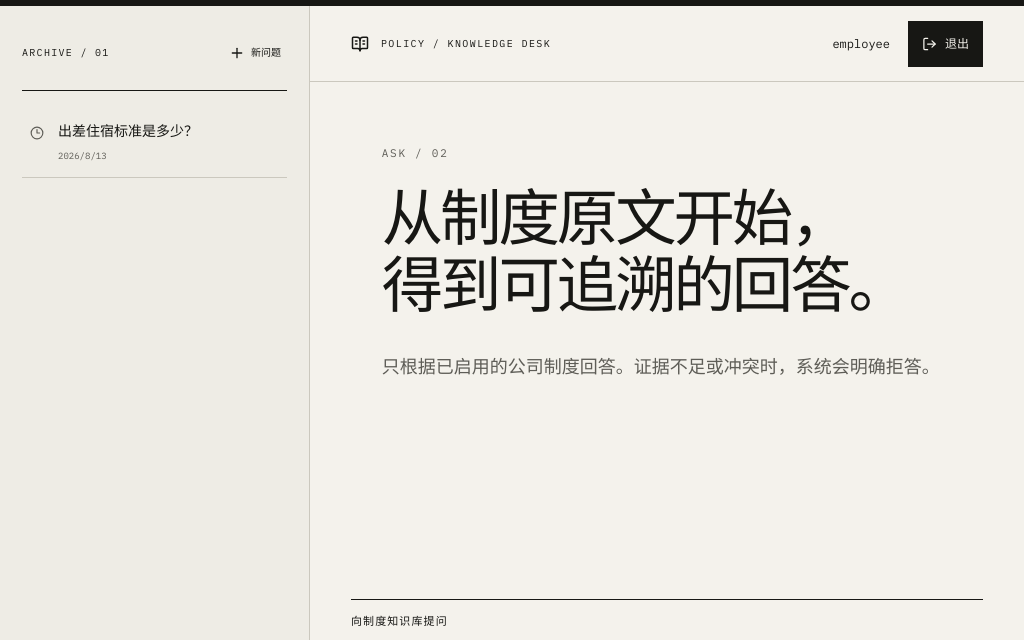
question workspace › retains the selected row and shows an inline error when deletion fails
The width and height of the screenshot is (1024, 640).
Click the button "出差住宿标准是多少？ 2026/8/13": (154, 140) top-left (22, 104), bottom-right (287, 177)
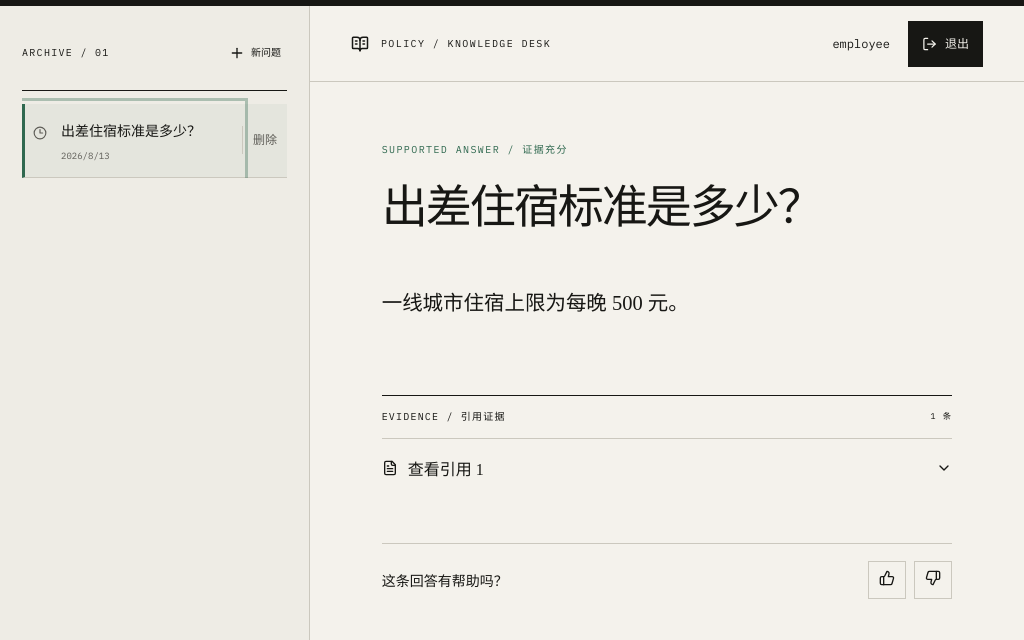
Click the button "删除": (264, 140) top-left (242, 126), bottom-right (287, 154)
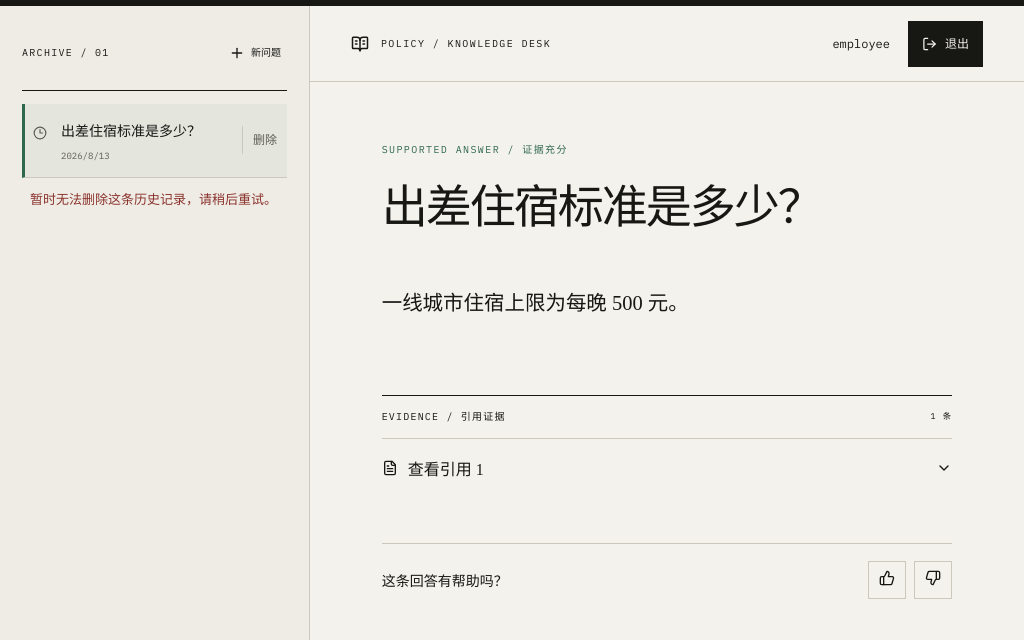
Expected: the button "出差住宿标准是多少？ 2026/8/13" is shown, top-left (25, 104), bottom-right (242, 177)
Now the text "一线城市住宿上限为每晚 500 元。" is shown, box top-left (382, 292), bottom-right (689, 314)
Now the message named "删除历史记录失败" reads "暂时无法删除这条历史记录，请稍后重试。", box top-left (30, 192), bottom-right (277, 207)
